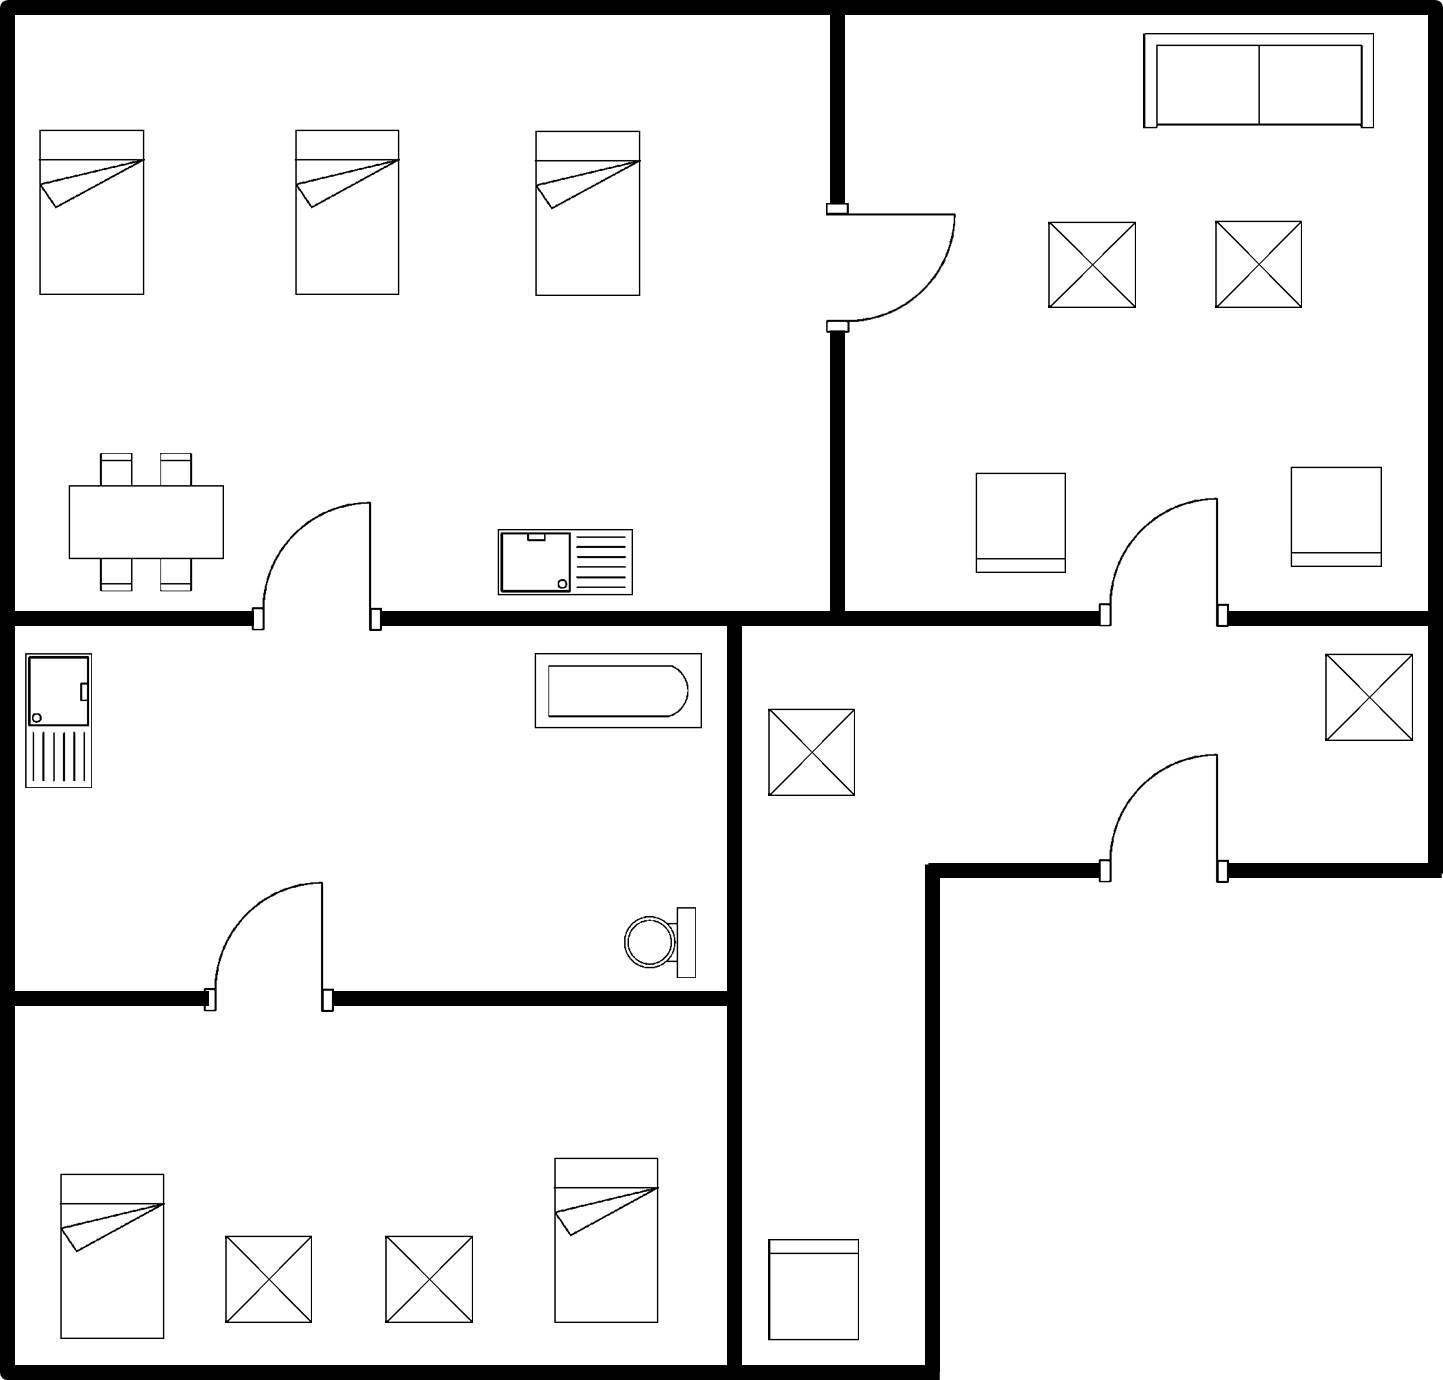bed: (46, 1164, 179, 1353), (542, 1148, 673, 1334), (26, 121, 155, 305), (285, 117, 408, 307), (523, 119, 647, 305)
dining_table: (54, 439, 233, 599)
sink: (15, 649, 100, 800), (490, 518, 638, 602)
sofa: (1135, 23, 1384, 140)
toilet: (615, 896, 714, 984)
tub: (522, 642, 710, 740)
